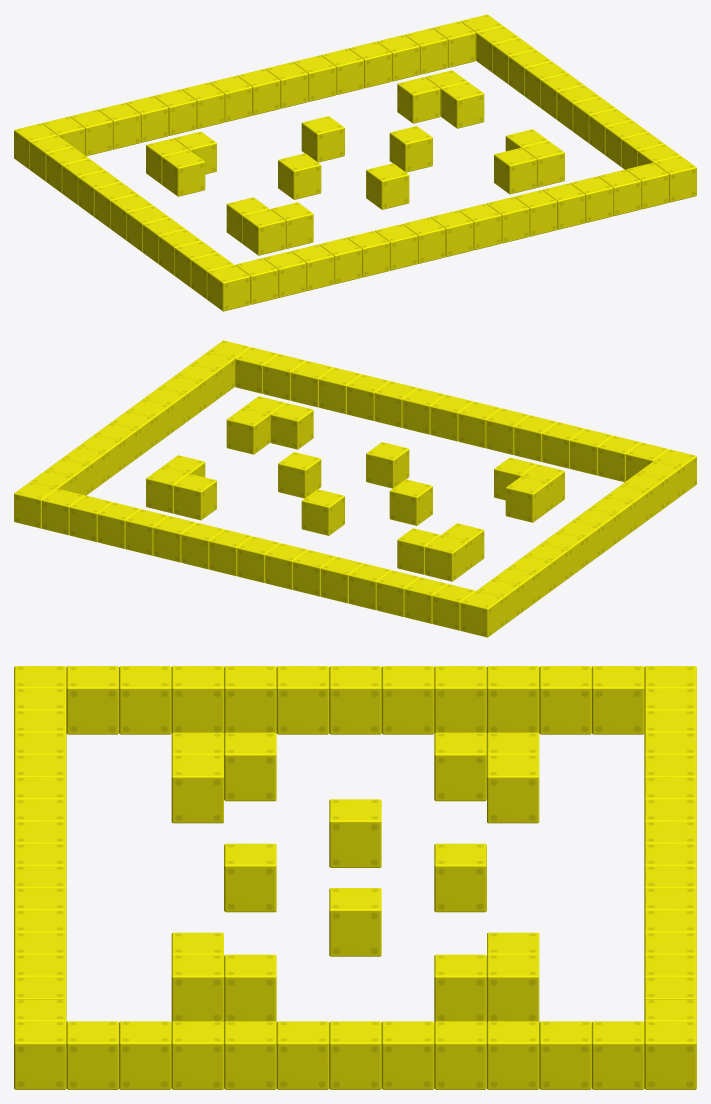
Rendered from Ground.fbx.
3 views of the same model, one above another, from view 1: azimuth 30°, elevation 25°; view 2: azimuth 150°, elevation 25°; view 3: azimuth 270°, elevation 25° (orthographic). The views are drawn at different scales.
Parts seen in each view (by area): view 1: WorkBlock8.264, WorkBlock8.066, WorkBlock8.198, WorkBlock8.113, WorkBlock8.115, WorkBlock8.141, WorkBlock8.120, WorkBlock8.199, WorkBlock8.147, WorkBlock8.101, WorkBlock8.214, WorkBlock8.226 (+60 smaller); view 2: WorkBlock8.265, WorkBlock8.119, WorkBlock8.199, WorkBlock8.101, WorkBlock8.104, WorkBlock8.141, WorkBlock8.100, WorkBlock8.198, WorkBlock8.147, WorkBlock8.113, WorkBlock8.213, WorkBlock8.223 (+60 smaller); view 3: WorkBlock8.245, WorkBlock8.246, WorkBlock8.259, WorkBlock8.260, WorkBlock8.100, WorkBlock8.120, WorkBlock8.198, WorkBlock8.199, WorkBlock8.242, WorkBlock8.243, WorkBlock8.249, WorkBlock8.250 (+60 smaller).
Part boxes in pixels (bbox=[...]): WorkBlock8.264: bbox=[207, 265, 250, 311]; WorkBlock8.066: bbox=[242, 209, 285, 255]; WorkBlock8.198: bbox=[366, 163, 409, 209]; WorkBlock8.113: bbox=[397, 77, 440, 123]; WorkBlock8.115: bbox=[441, 82, 484, 128]; WorkBlock8.141: bbox=[278, 153, 321, 199]; WorkBlock8.120: bbox=[162, 150, 205, 196]; WorkBlock8.199: bbox=[301, 116, 344, 162]; WorkBlock8.147: bbox=[389, 126, 432, 172]; WorkBlock8.101: bbox=[494, 148, 536, 194]; WorkBlock8.214: bbox=[458, 203, 501, 250]; WorkBlock8.226: bbox=[209, 75, 252, 122]; WorkBlock8.265: bbox=[460, 591, 503, 637]; WorkBlock8.119: bbox=[425, 535, 468, 581]; WorkBlock8.199: bbox=[301, 489, 344, 535]; WorkBlock8.101: bbox=[270, 403, 313, 449]; WorkBlock8.104: bbox=[226, 408, 269, 454]; WorkBlock8.141: bbox=[389, 479, 432, 525]; WorkBlock8.100: bbox=[505, 476, 548, 522]; WorkBlock8.198: bbox=[366, 442, 409, 488]; WorkBlock8.147: bbox=[278, 452, 321, 498]; WorkBlock8.113: bbox=[174, 474, 216, 520]; WorkBlock8.213: bbox=[458, 401, 501, 448]; WorkBlock8.223: bbox=[209, 529, 252, 576]; WorkBlock8.245: bbox=[276, 1021, 329, 1089]; WorkBlock8.246: bbox=[381, 1021, 434, 1089]; WorkBlock8.259: bbox=[381, 666, 434, 734]; WorkBlock8.260: bbox=[276, 666, 329, 734]; WorkBlock8.100: bbox=[224, 732, 276, 801]; WorkBlock8.120: bbox=[434, 732, 486, 801]; WorkBlock8.198: bbox=[224, 843, 276, 912]; WorkBlock8.199: bbox=[434, 843, 486, 912]; WorkBlock8.242: bbox=[66, 1021, 118, 1089]; WorkBlock8.243: bbox=[592, 1021, 644, 1089]; WorkBlock8.249: bbox=[171, 1021, 223, 1089]; WorkBlock8.250: bbox=[487, 1021, 539, 1089].
Bounding box in the file's own units: 1700 × 100 × 1300.
82 materials, 82 textured.
